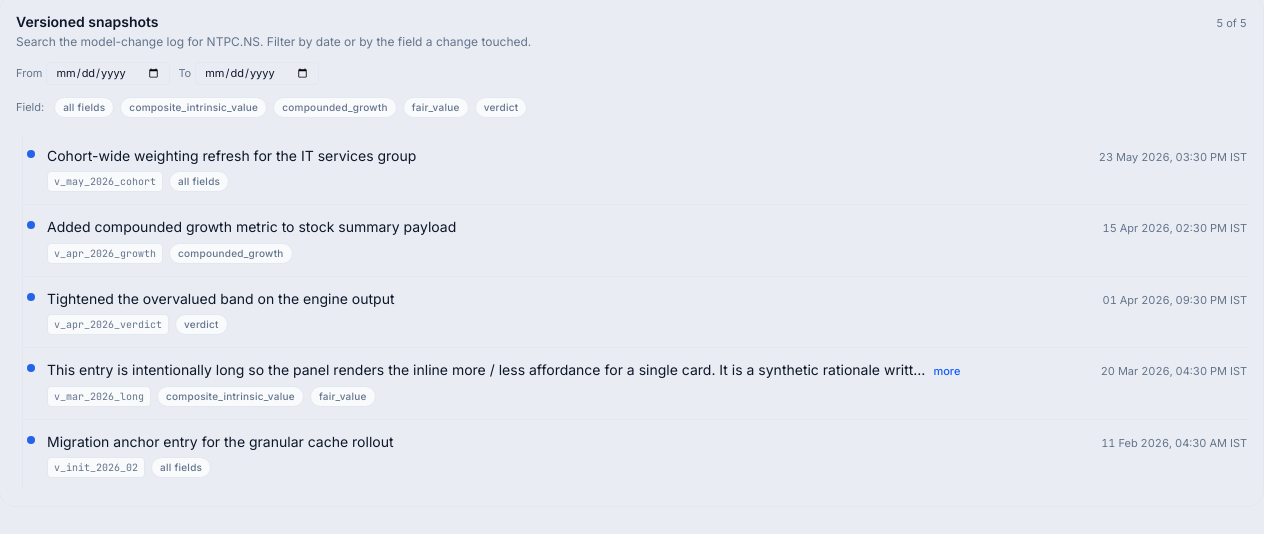
Test: VersionedSnapshotsPanel › expands and collapses long rationales via the inline more/less toggle
Expected: the text "Cohort-wide weighting refresh for the IT services group" is shown, [47,146,416,165]
Expected: the text "This entry is intentionally long" is shown, [47,361,926,378]
# Toggle to "more".
Click the button "more".
click(947, 372)  # box [934,364,960,379]
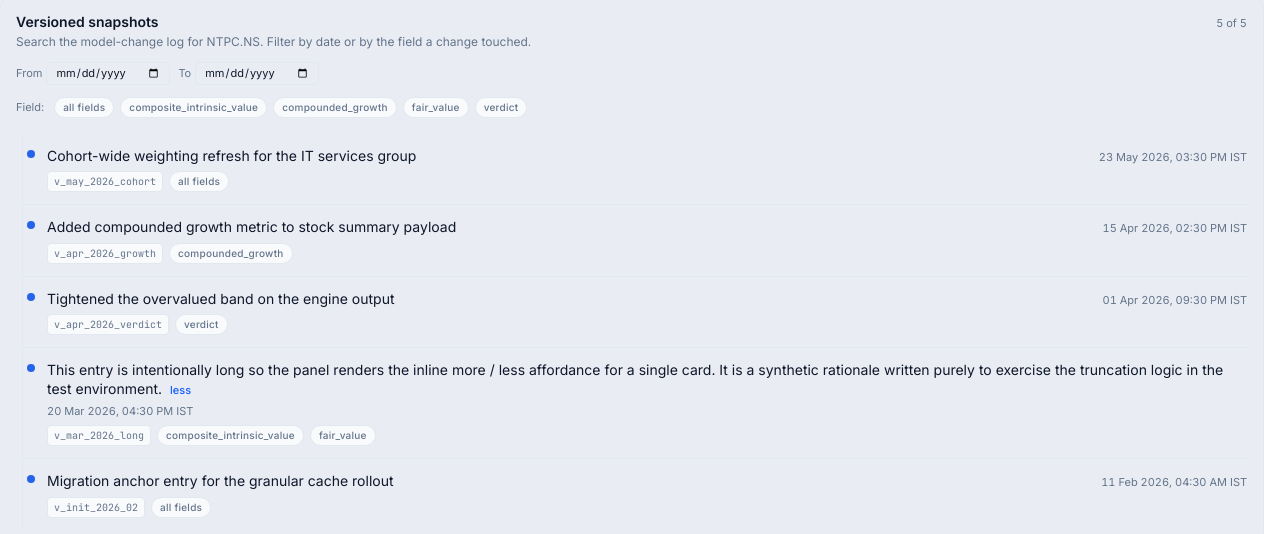
Expected: the text "exercise the truncation logic in the test environment" is shown, [47,361,1223,397]
Now the button "less" is shown, box [170,383,191,398]
